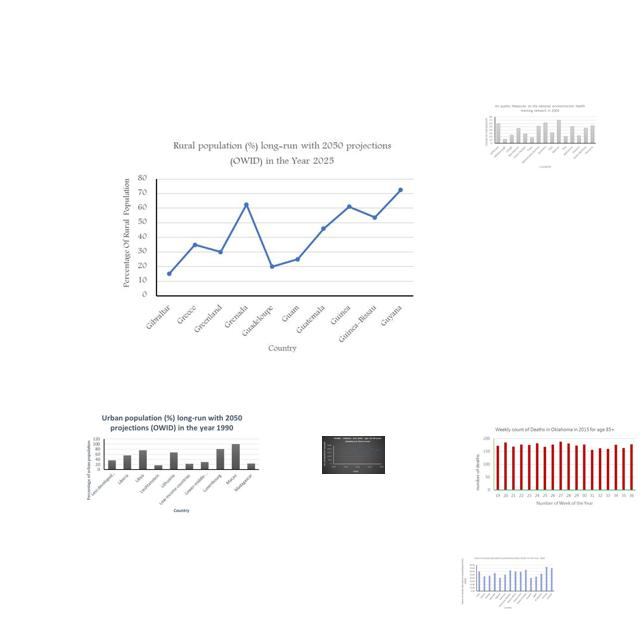Graph: (115, 134, 419, 357), (84, 413, 263, 515), (471, 424, 639, 508), (482, 102, 598, 171), (460, 554, 559, 611), (322, 436, 385, 474)
